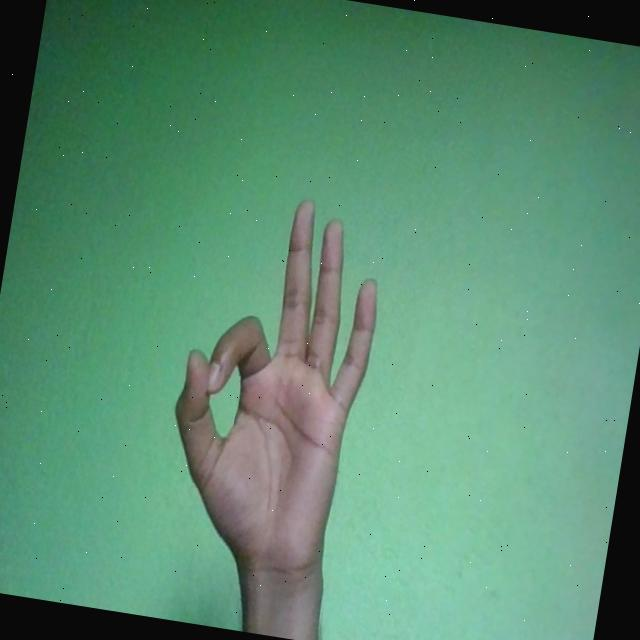Rock On: (152, 184, 394, 590)
